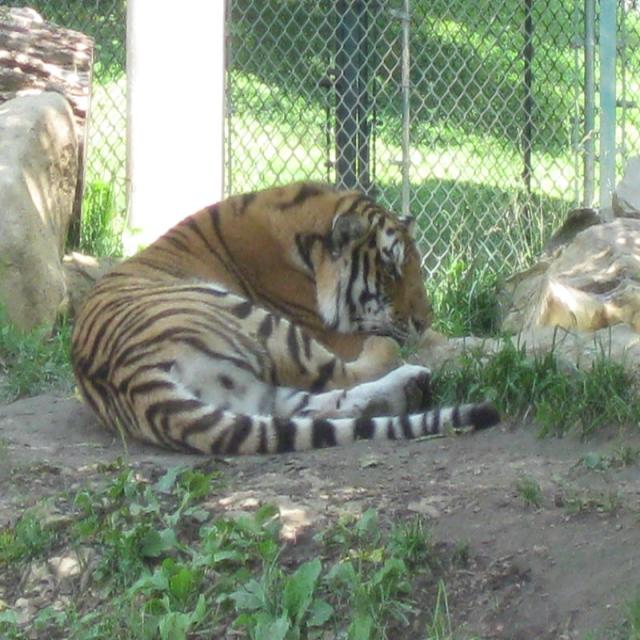Tiger: (68, 175, 502, 455)
